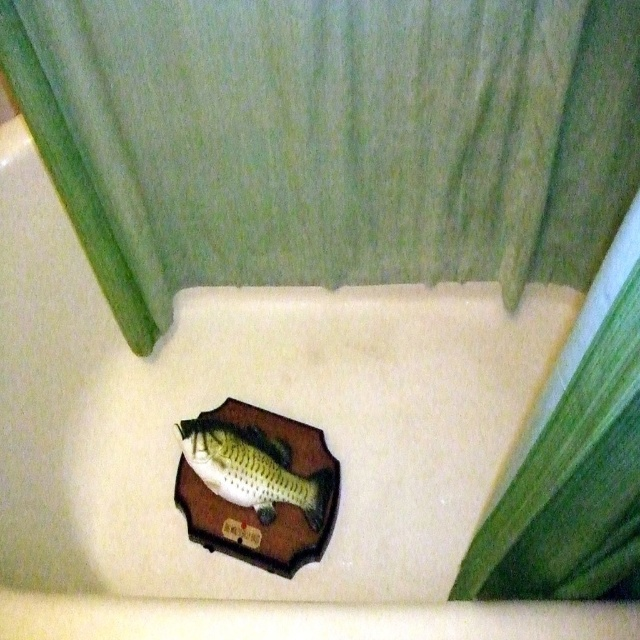Fish: (173, 417, 333, 527)
